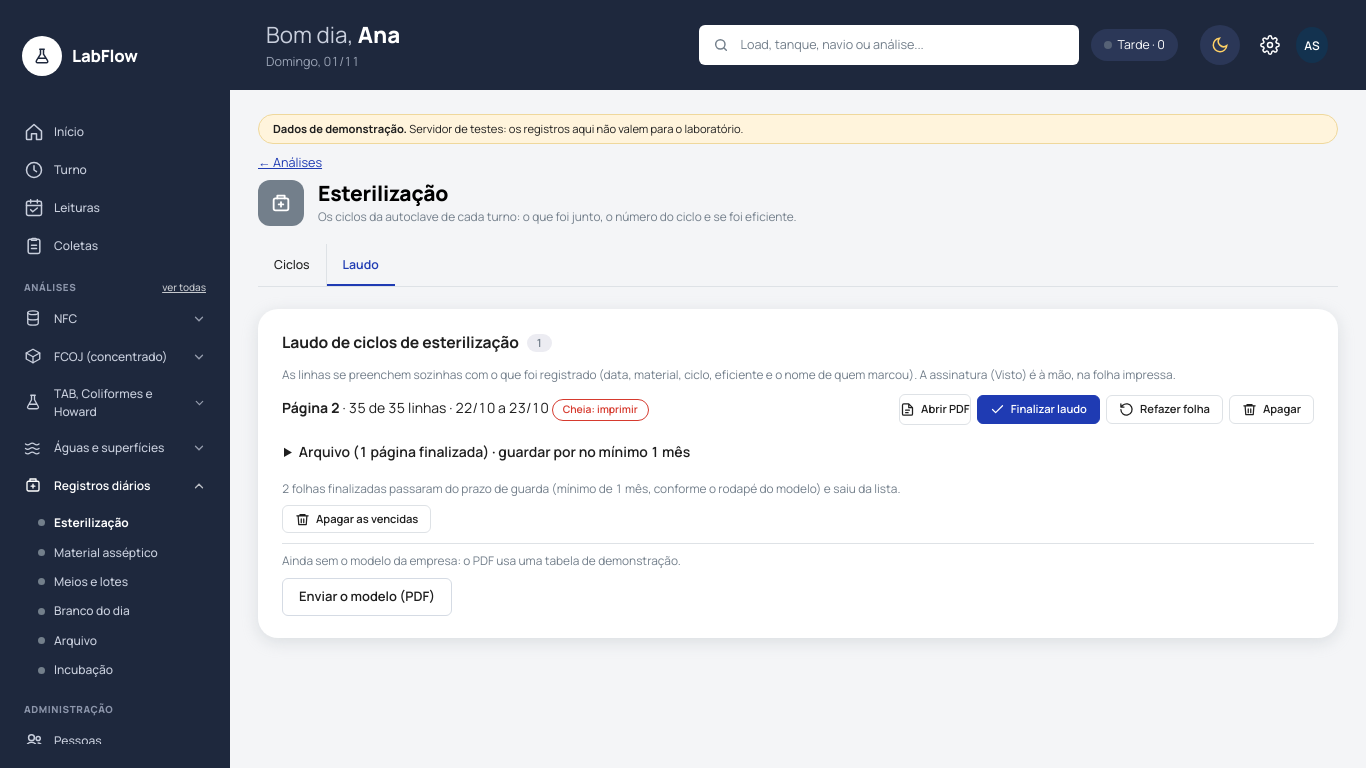
it: Laudo de esterilização (APP-035) › as folhas que passaram do prazo de guarda do modelo saem da lista e o Admin apaga de uma vez (01/11)
expect the element named "Laudo de esterilização" shows "2 folhas finalizadas passaram do prazo de guarda (mínimo de 1 mês, conforme o rodapé do modelo)": met, box left=258, top=309, right=1338, bottom=638
expect the element named "Laudo de esterilização" shows "guardar por no mínimo 1 mês": met, box left=489, top=442, right=690, bottom=460
Click the button "Apagar as vencidas": click(357, 519) left=282, top=505, right=431, bottom=533
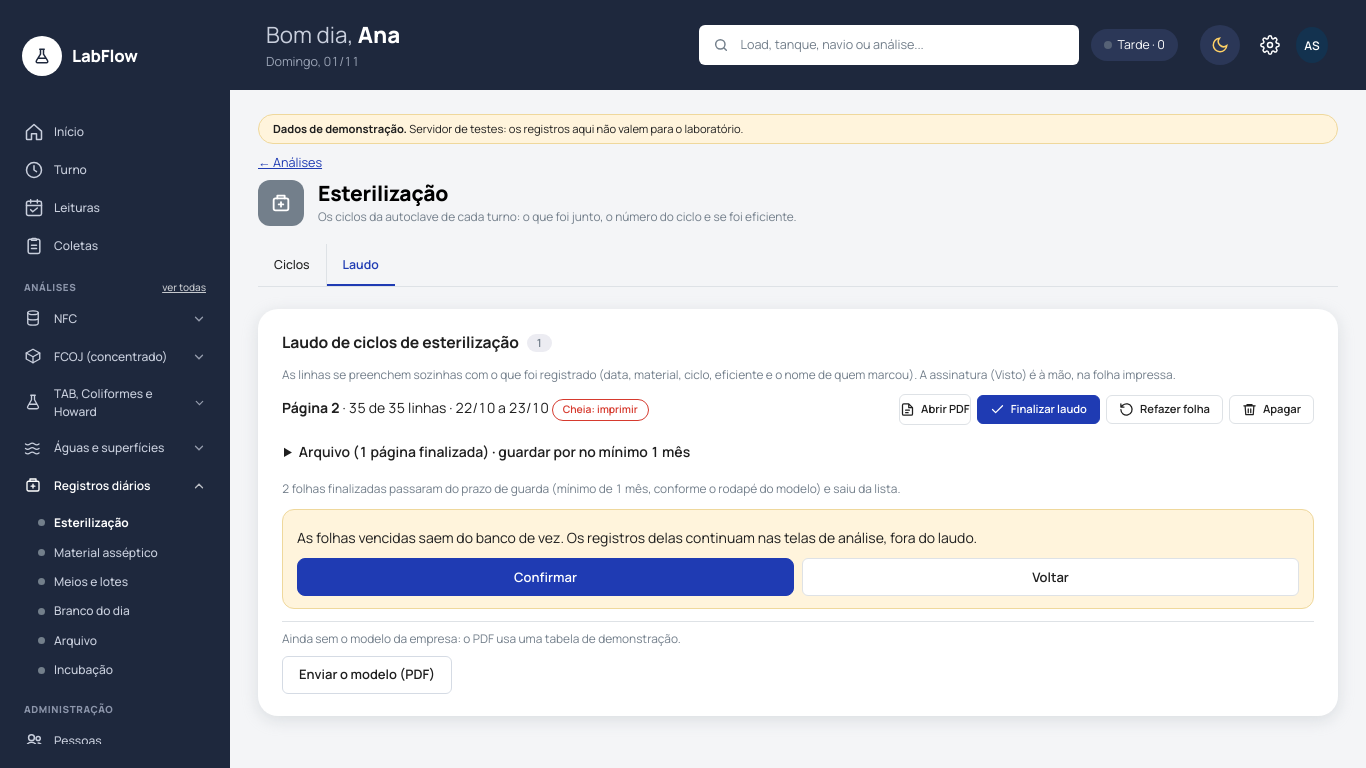
Click the button "Confirmar": click(546, 577) left=297, top=558, right=794, bottom=596
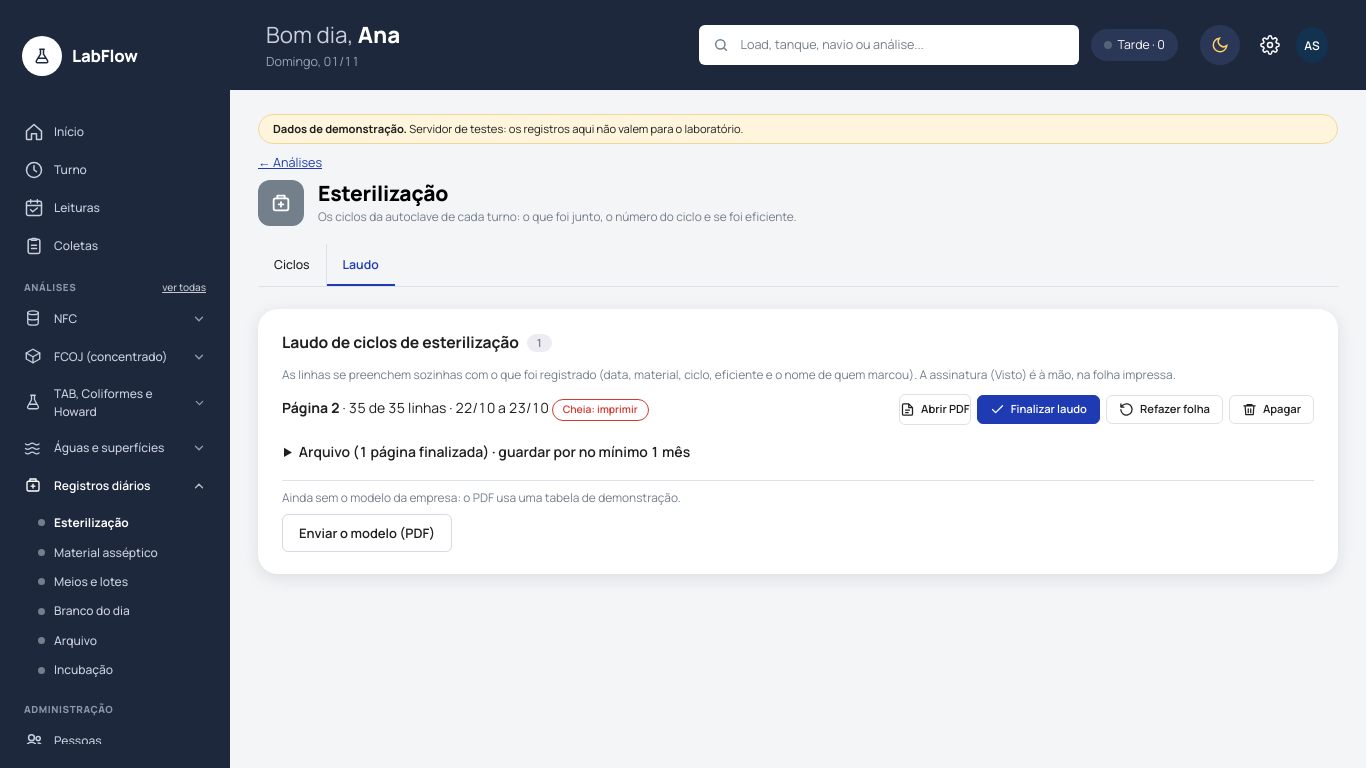
expect the element named "Laudo de esterilização" no longer shows "passaram do prazo": met, box left=258, top=309, right=1338, bottom=574
